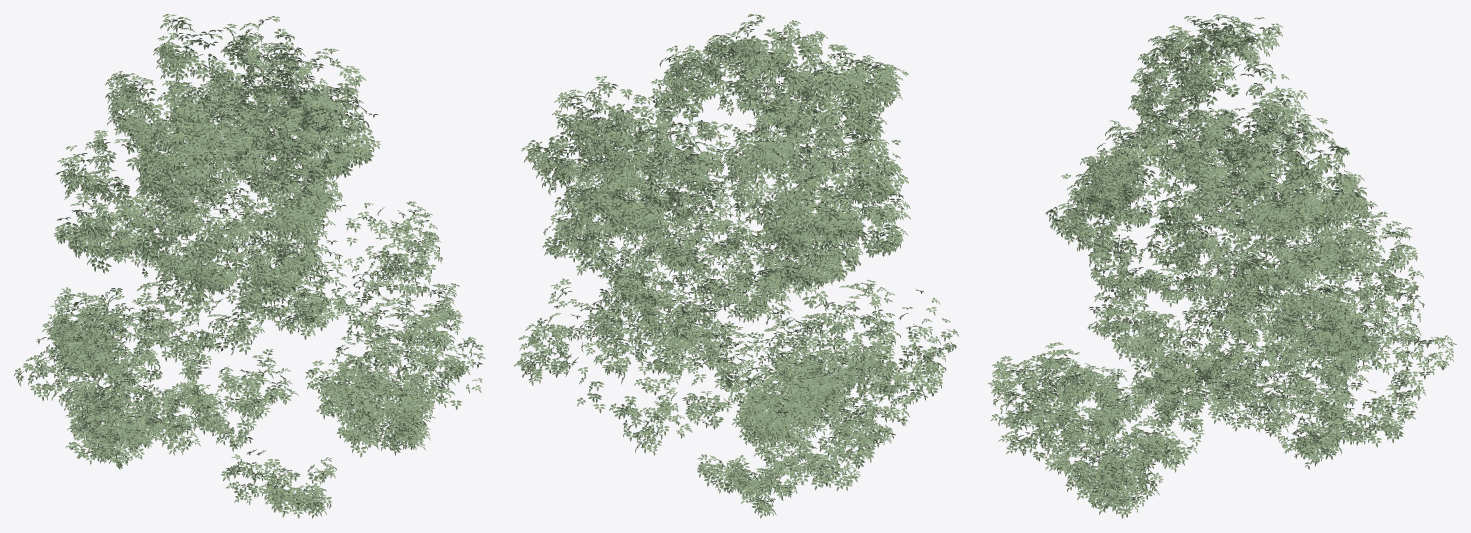
The model's file is lujiazui-36.glb.
3 renders of one model, left to right at view 1: azimuth 30°, elevation 25°; view 2: azimuth 150°, elevation 25°; view 3: azimuth 270°, elevation 25°, orthographic.
Parts seen in each view (by area): view 1: source_4861_leaf_part1, source_4861_leaf_part3, source_4861_leaf_part2; view 2: source_4861_leaf_part1, source_4861_leaf_part2, source_4861_leaf_part3; view 3: source_4861_leaf_part1, source_4861_leaf_part2, source_4861_leaf_part3.
Part boxes in pixels (box(x1,y1,x2,y2)): source_4861_leaf_part1: box(47, 14, 485, 518); source_4861_leaf_part3: box(42, 18, 461, 518); source_4861_leaf_part2: box(14, 48, 443, 445); source_4861_leaf_part1: box(521, 14, 910, 507); source_4861_leaf_part2: box(514, 72, 958, 455); source_4861_leaf_part3: box(562, 16, 909, 518); source_4861_leaf_part1: box(991, 14, 1381, 518); source_4861_leaf_part2: box(1051, 92, 1456, 447); source_4861_leaf_part3: box(988, 16, 1375, 514).
Bounding box in the file's own units: 7.43 × 8.38 × 7.7.
